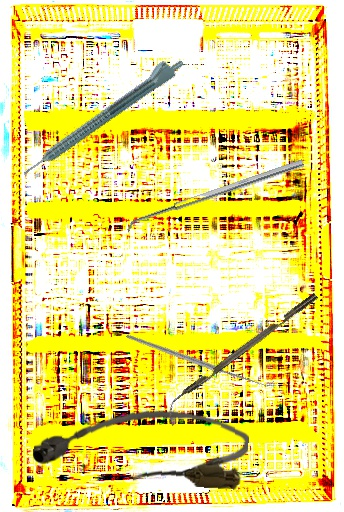Cannula: (31, 401, 251, 491)
Chopper: (160, 292, 324, 418)
Handpiece: (15, 50, 187, 180)
Hook Surgical: (126, 282, 274, 436)
Spatula Surgical: (124, 159, 307, 235)
